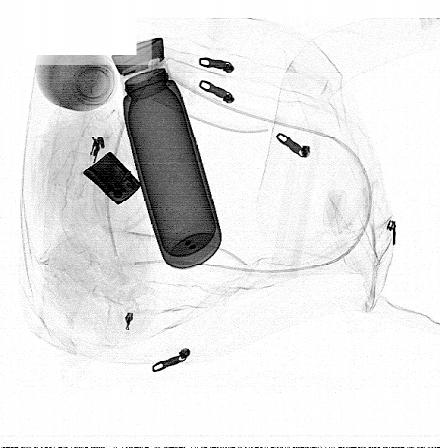Lighter: (83, 150, 142, 207)
